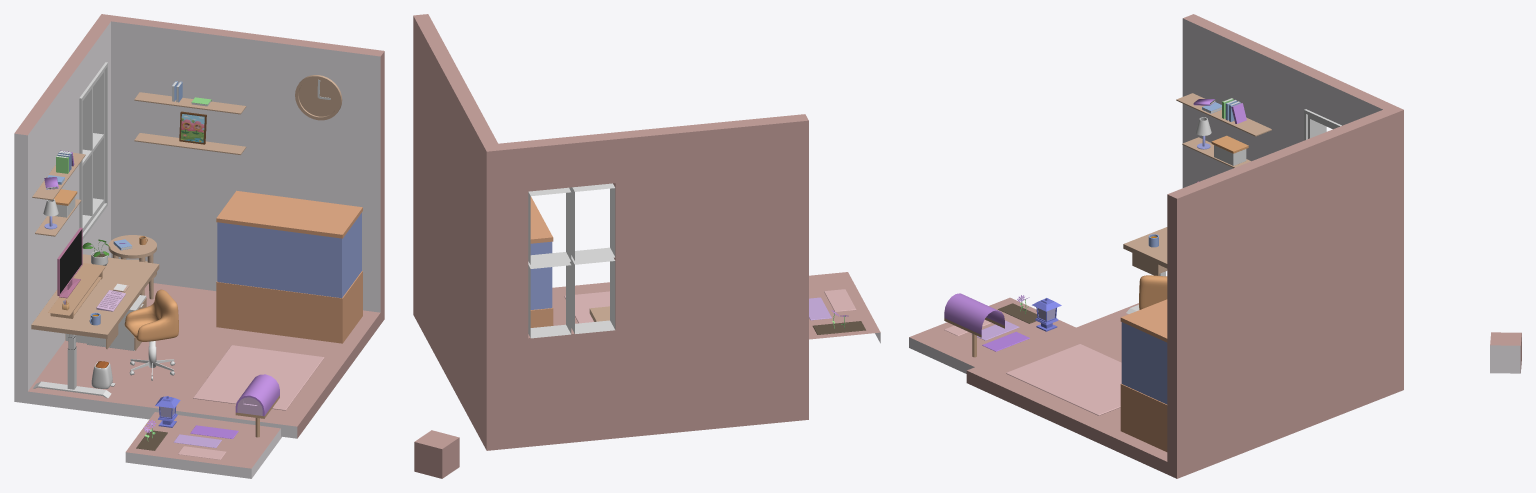
The picture shows the model from 3 angles, left to right: view 1: azimuth 30°, elevation 25°; view 2: azimuth 150°, elevation 25°; view 3: azimuth 270°, elevation 25°; orthographic projection. The views are drawn at different scales.
Parts seen in each view (by area): view 1: Body, Aquarium, Desks, Floor Items, Mini Floor, Shelves, Table Stuff, Chair, Clock, Mailbox, Computer, Lamp (+4 smaller); view 2: Body, Mini Floor, Aquarium, Cube, Floor Items, Dirt, FloorThird; view 3: Body, Aquarium, Floor Items, Mini Floor, Shelves, Mailbox, Desks, Cube, Chair, Lamp.
Boxes of the visible parts, x1,y1,x2,y2 form: Body: [14, 14, 384, 438]; Aquarium: [216, 190, 362, 343]; Desks: [31, 235, 159, 398]; Floor Items: [87, 295, 324, 410]; Mini Floor: [125, 412, 281, 478]; Shelves: [32, 81, 246, 236]; Table Stuff: [48, 236, 147, 325]; Chair: [124, 289, 178, 341]; Clock: [295, 75, 342, 120]; Mailbox: [235, 374, 279, 437]; Computer: [57, 227, 82, 298]; Lamp: [155, 396, 180, 427]; Body: [413, 14, 808, 450]; Mini Floor: [809, 272, 880, 343]; Aquarium: [530, 196, 553, 327]; Cube: [414, 430, 459, 478]; Floor Items: [564, 291, 609, 323]; Dirt: [812, 321, 865, 334]; FloorThird: [824, 289, 856, 311]; Body: [966, 14, 1403, 478]; Aquarium: [1120, 299, 1167, 451]; Floor Items: [1006, 344, 1121, 415]; Mini Floor: [909, 297, 1075, 373]; Shelves: [1176, 93, 1271, 167]; Mailbox: [944, 293, 1004, 357]; Desks: [1123, 227, 1167, 313]; Cube: [1490, 332, 1521, 373]; Chair: [1139, 275, 1167, 309]; Lamp: [1032, 298, 1061, 331].
Bounding box in the file's own units: 27.58 × 19.65 × 38.64.
42 materials, 1 textured.
